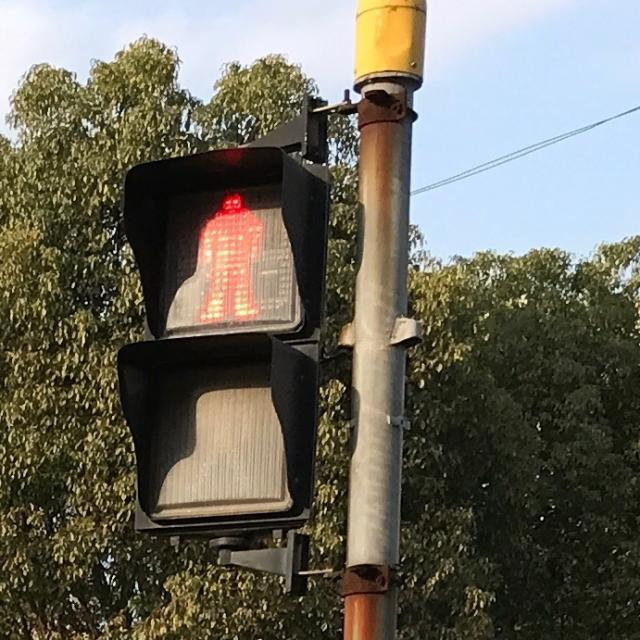red-crossing: (192, 182, 270, 321)
